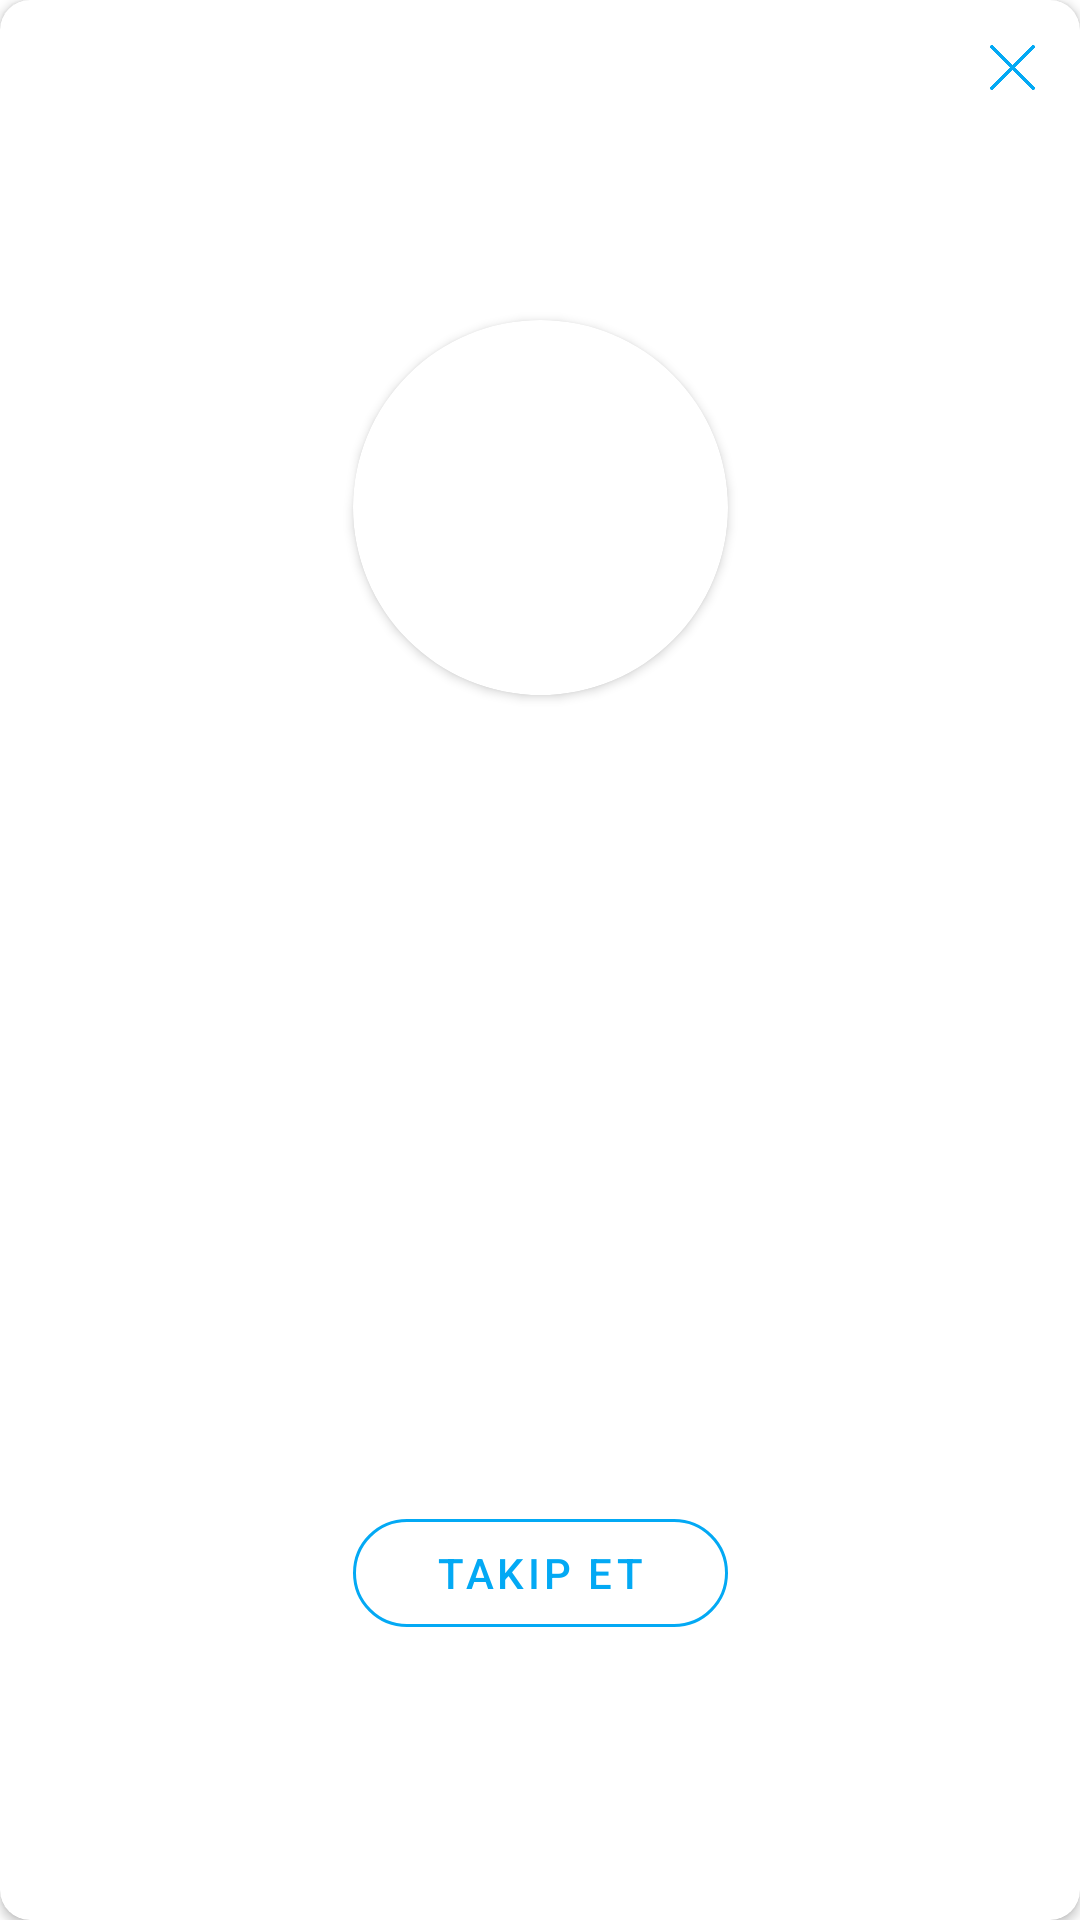

Screen size 1080×1920. Icon name, then its box in pixels as (x1, y1, x2, y2):
cancel: (990, 45, 1035, 90)
